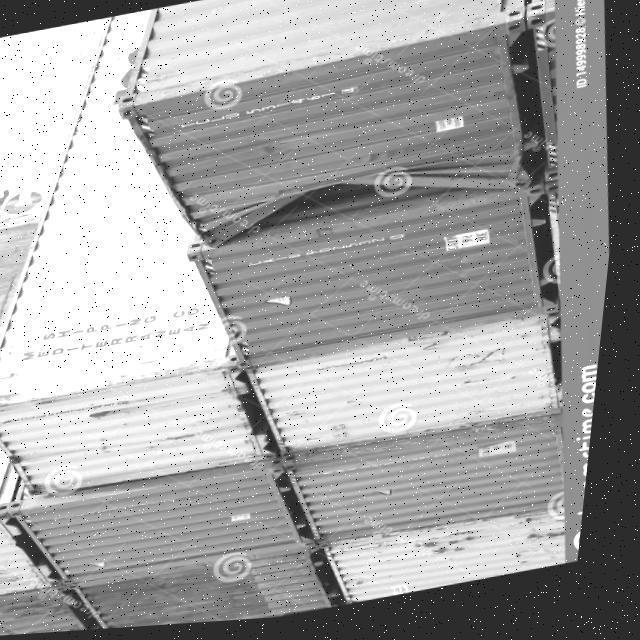dent: (174, 129, 568, 282)
